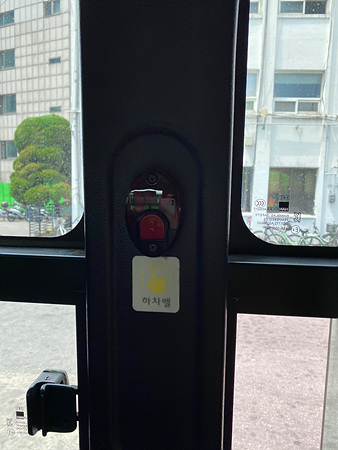bell: (124, 171, 183, 257)
